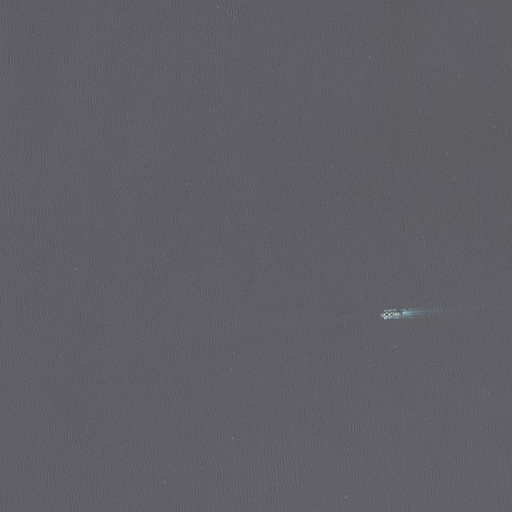ship: (378, 308, 403, 322)
